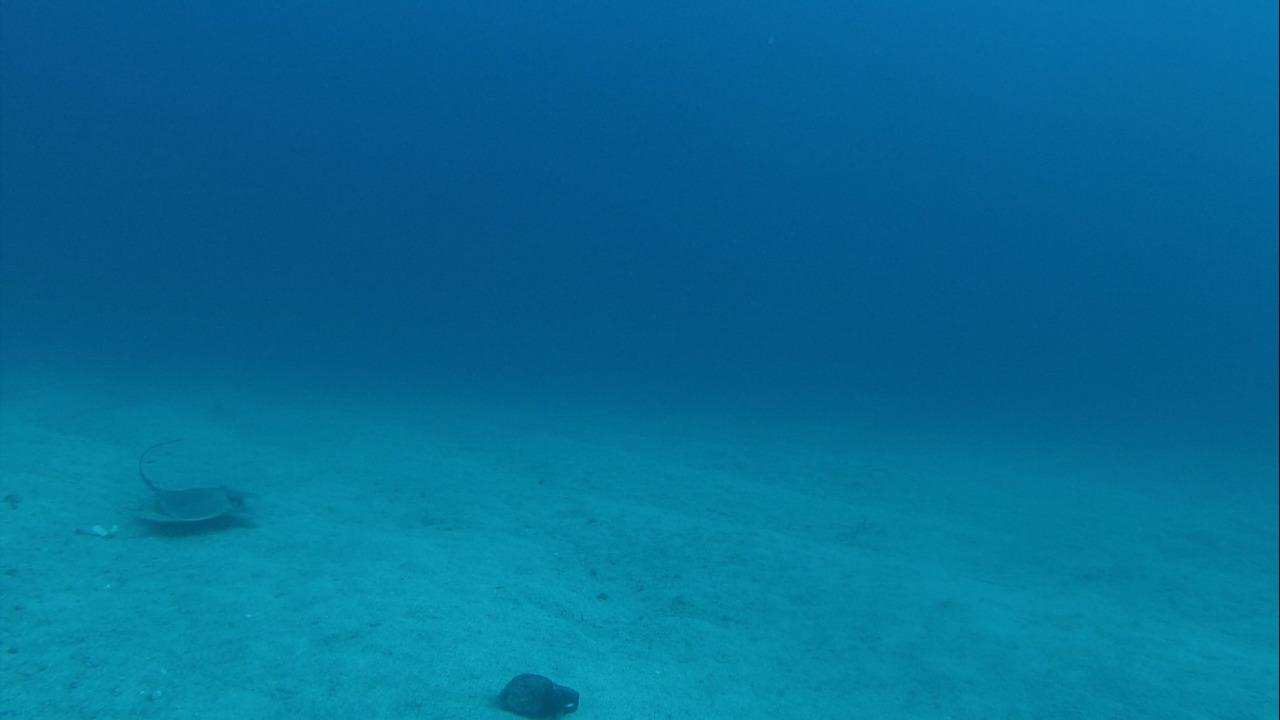myliobatis: (116, 424, 262, 528)
